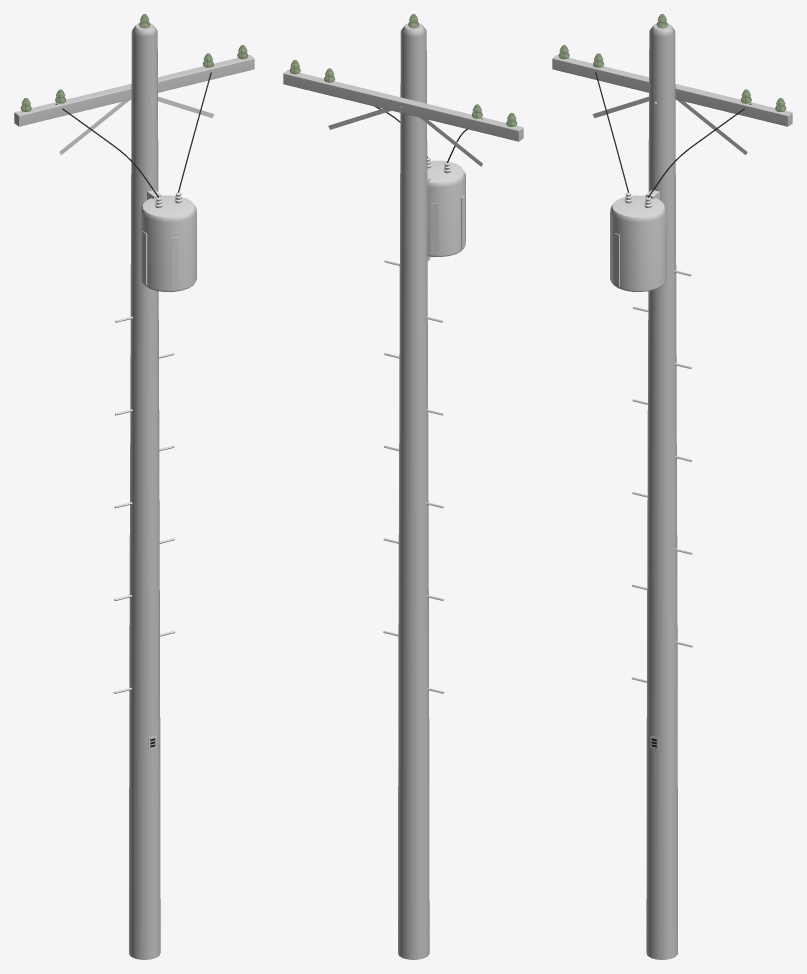
Rendered from SM_UtilityPole.fbx.
3 views of the same model, side by side, from view 1: azimuth 30°, elevation 25°; view 2: azimuth 150°, elevation 25°; view 3: azimuth 330°, elevation 25° (orthographic).
Visible parts, largest first — view 1: SM_UtilityPole_1; view 2: SM_UtilityPole_1; view 3: SM_UtilityPole_1.
Part boxes in pixels (x1,y1,x2,y2): SM_UtilityPole_1: (14, 14, 254, 959); SM_UtilityPole_1: (283, 14, 523, 959); SM_UtilityPole_1: (552, 14, 792, 959).
Size of the model in its own units: 240 by 912 by 90.28.
